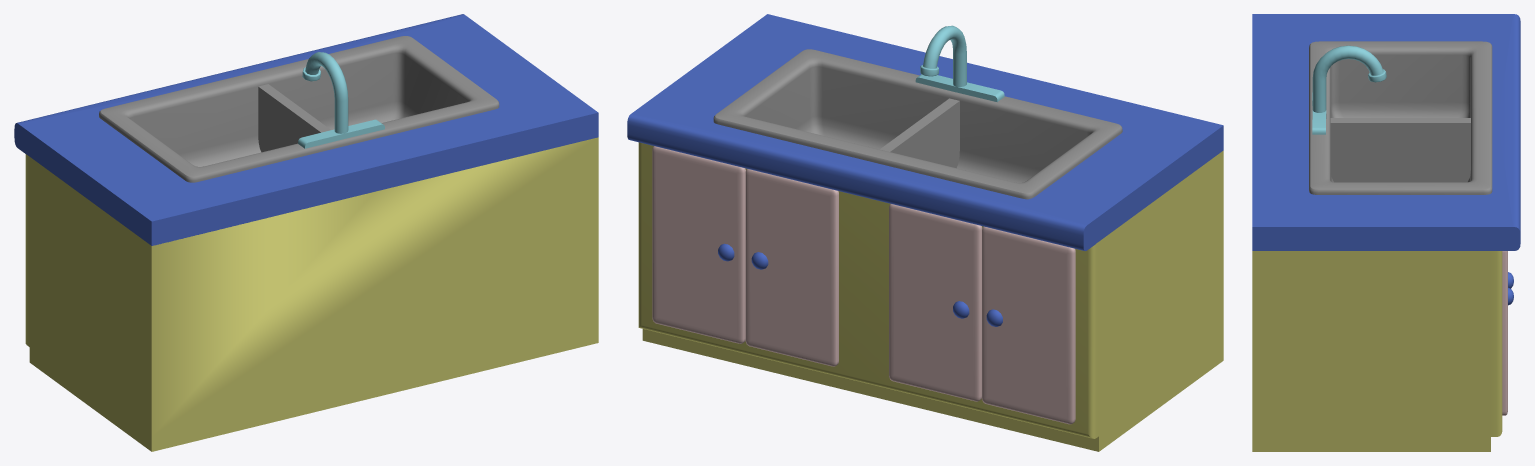
Rendered from Washing.FBX.
3 renders of one model, left to right at view 1: azimuth 30°, elevation 25°; view 2: azimuth 150°, elevation 25°; view 3: azimuth 270°, elevation 25°, orthographic. The views are drawn at different scales.
Parts seen in each view (by area): view 1: Washing; view 2: Washing; view 3: Washing.
Boxes of the visible parts, x1,y1,x2,y2 form: Washing: (14, 14, 598, 451); Washing: (627, 14, 1223, 451); Washing: (1252, 14, 1520, 451).
Bounding box in the file's own units: 34.15 × 22.41 × 18.18.
